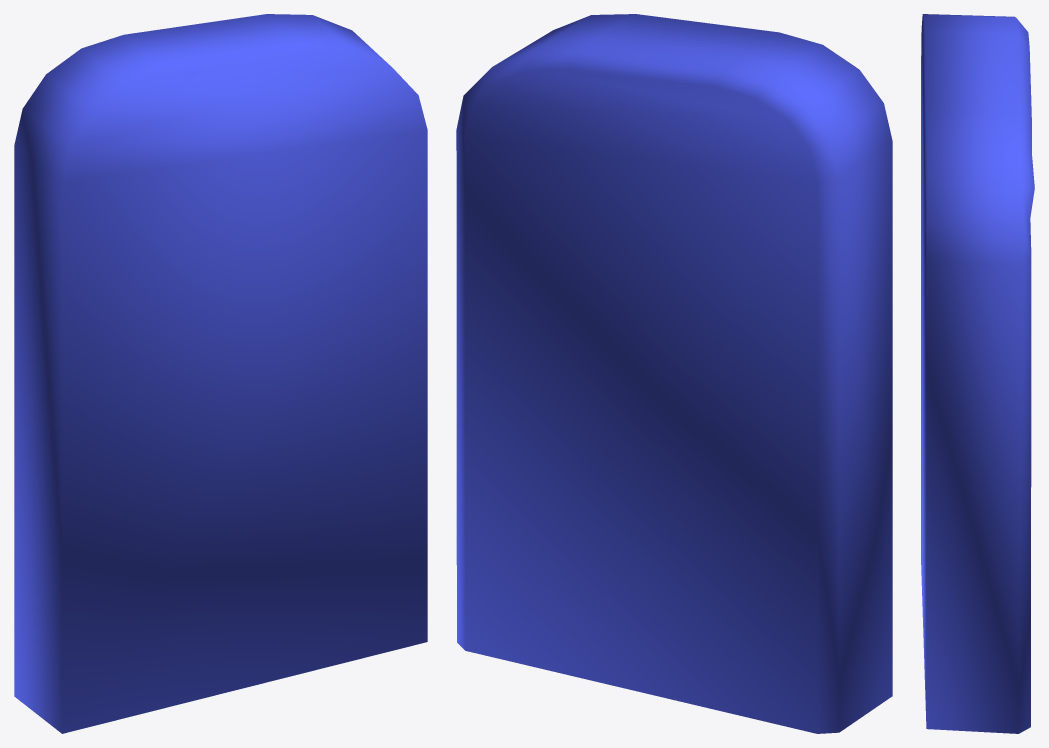
File: seat.glb
3 views of the same model, side by side, from view 1: azimuth 30°, elevation 25°; view 2: azimuth 150°, elevation 25°; view 3: azimuth 270°, elevation 25° (orthographic). The views are drawn at different scales.
Parts seen in each view (by area): view 1: newseats; view 2: newseats; view 3: newseats.
Part boxes in pixels (x1=…): newseats: x1=14, y1=14, x2=427, y2=733; newseats: x1=456, y1=14, x2=892, y2=733; newseats: x1=921, y1=14, x2=1034, y2=733.
Bounding box in the file's own units: 1.19 × 1.89 × 0.3354.
